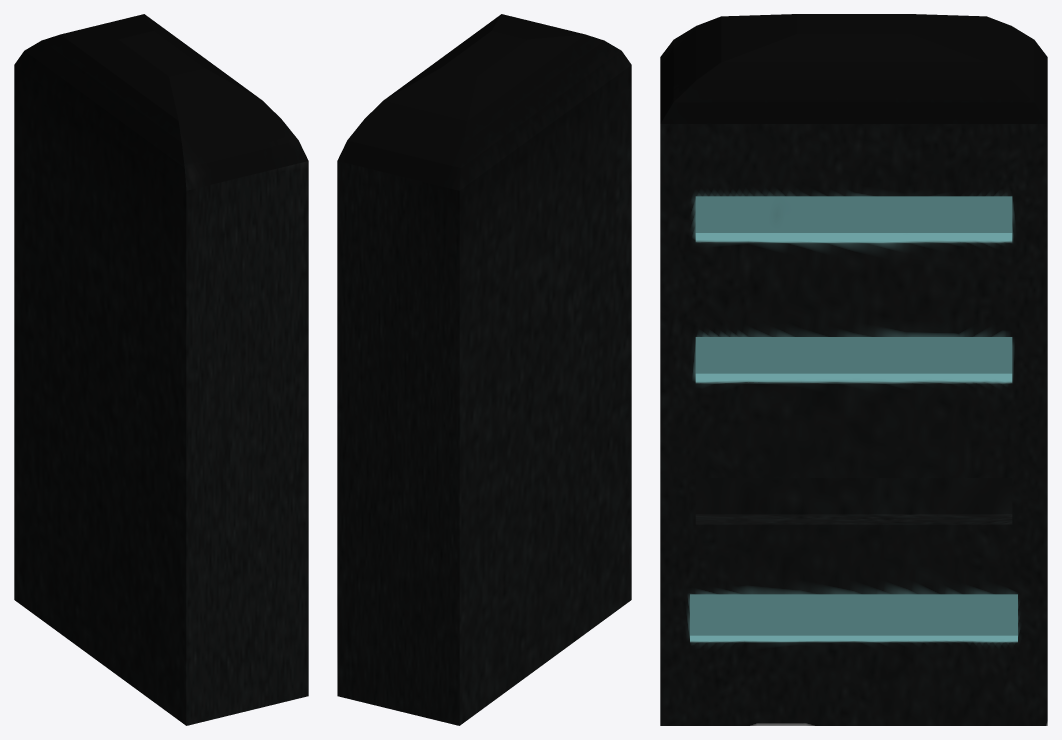
Rendered from building2.obj.
3 views of the same model, side by side, from view 1: azimuth 30°, elevation 25°; view 2: azimuth 150°, elevation 25°; view 3: azimuth 270°, elevation 25° (orthographic). The views are drawn at different scales.
Parts seen in each view (by area): view 1: Cube; view 2: Cube; view 3: Cube.
Part boxes in pixels (x1,y1,x2,y2): Cube: (14, 14, 308, 725); Cube: (337, 14, 631, 725); Cube: (660, 14, 1047, 725).
Size of the model in its own units: 1.93 by 8.97 by 4.71.
Materials: 1 (1 with a texture image).
